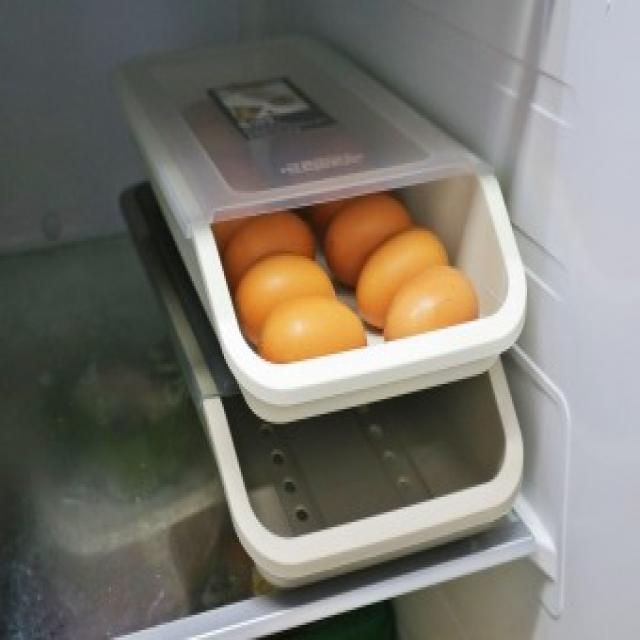eggs: (230, 252, 338, 336), (355, 230, 449, 321), (383, 260, 479, 344), (261, 293, 368, 365), (326, 192, 408, 280), (225, 209, 319, 269)
